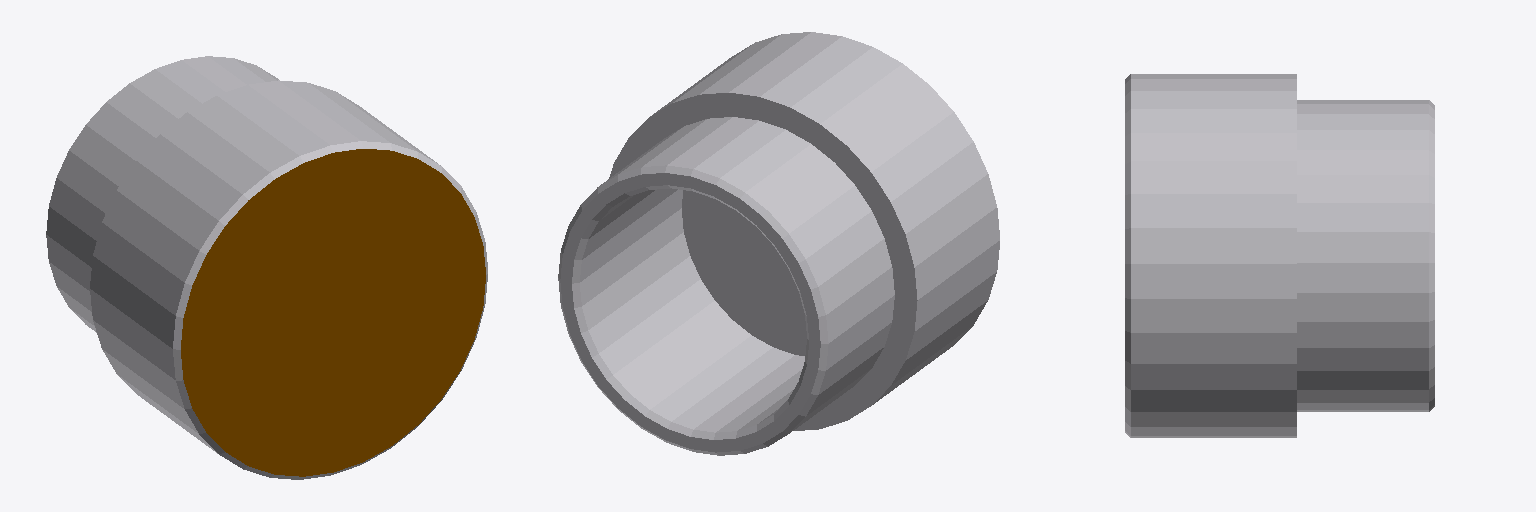
File: nakretkaTyl.obj
3 views of the same model, side by side, from view 1: azimuth 30°, elevation 25°; view 2: azimuth 150°, elevation 25°; view 3: azimuth 270°, elevation 25° (orthographic).
Visible parts, largest first — view 1: Cylinder; view 2: Cylinder; view 3: Cylinder.
Part boxes in pixels (x1,y1,x2,y2): Cylinder: (46,56,487,479); Cylinder: (558,32,999,455); Cylinder: (1125,74,1434,437).
Size of the model in its own units: 2 by 2 by 1.7.